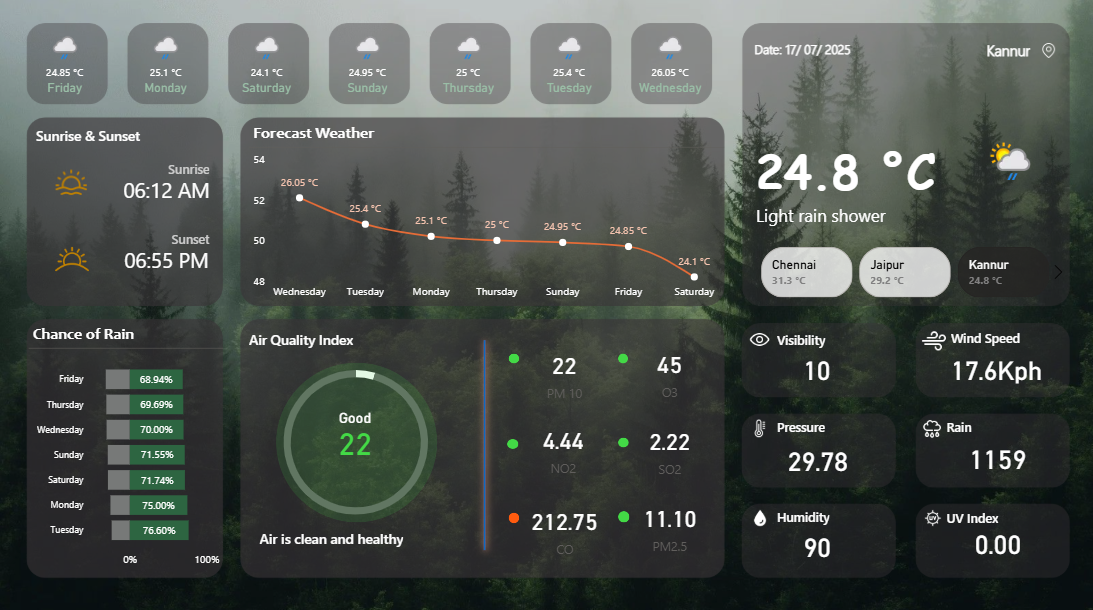

This screenshot's page, from the dashboard's own definition file:
{"tool":"powerbi","page":{"name":"Page 1","canvas":[1280,720],"ordinal":0},"visuals":[{"type":"donutChart","fields":{"Y":["Sum(Current.current.air_quality.pm10)","_Measures.Left_Value_PM10"]},"box":[304.2,408.3,224.5,221.2],"z":0},{"type":"shape","box":[322.1,426.2,188.7,187.1],"z":1000},{"type":"advancedSlicerVisual","fields":{"Values":["Location.location.name"]},"box":[865.3,286.3,388.7,69.9],"z":2000},{"type":"shape","box":[884.4,164.4,251.1,70],"z":3000},{"type":"shape","box":[884.4,236.7,353.3,34.4],"z":4000},{"type":"shape","box":[1049.1,43.9,156.1,34.2],"z":5000},{"type":"image","box":[1210.1,47.2,32.5,27.7],"z":6000},{"type":"shape","box":[883.2,43.9,135,32.5],"z":7000},{"type":"cardVisual","fields":{"Data":["Min(Current.current.condition.icon)"]},"box":[1136,144,90,94],"z":8000},{"type":"image","box":[868.9,381.1,40,36.7],"z":9000},{"type":"shape","box":[908.9,384.4,134.4,31.1],"z":10000},{"type":"image","box":[1070,486.7,40,35.6],"z":11000},{"type":"image","box":[868.9,487.8,40,31.1],"z":12000},{"type":"image","box":[1074.4,592.2,34.4,30],"z":13000},{"type":"image","box":[1072.2,380,40,40],"z":14000},{"type":"image","box":[874.4,592.2,30,30],"z":15000},{"type":"shape","box":[1112.2,383.3,125.6,30],"z":16000},{"type":"shape","box":[908.9,486.7,134.4,31.1],"z":17000},{"type":"shape","box":[1107.8,486.7,135.6,31.1],"z":18000},{"type":"shape","box":[908.9,591.1,134.4,31.1],"z":19000},{"type":"shape","box":[1107.8,592.2,134.4,30],"z":20000},{"type":"card","fields":{"Values":["Sum(Current.current.humidity)"]},"box":[927.8,620,54.4,43.3],"z":21000},{"type":"card","fields":{"Values":["Sum(Current.current.uv)"]},"box":[1122.2,616.7,87.8,42.2],"z":22000},{"type":"card","fields":{"Values":["Sum(Current.current.pressure_in)"]},"box":[908.9,518.9,94.4,42.2],"z":23000},{"type":"card","fields":{"Values":["Sum(Current.current.vis_km)"]},"box":[917.8,412.2,74.4,42.2],"z":24000},{"type":"card","fields":{"Values":["_Measures.Wind_Speed"]},"box":[1100,412.2,130,43.3],"z":25000},{"type":"card","fields":{"Values":["Sum(Forecast_day.forecast.forecastday.day.daily_chance_of_rain)"]},"box":[1118.9,515.6,94.4,43.3],"z":26000},{"type":"lineChart","title":"Forecast Weather","fields":{"Y":["Sum(Forecast_day.forecast.forecastday.day.avgtemp_c)"],"Category":["Forecast_day.Day_Name"]},"box":[291.2,144.8,556.3,214.7],"z":27000},{"type":"advancedSlicerVisual","fields":{"Values":["Forecast_day.Day_Name"]},"box":[16.3,27.7,831.2,97.6],"z":28000},{"type":"shape","box":[42.3,144.8,135,30.9],"z":29000},{"type":"shape","box":[111.8,190,132.7,68.2],"z":30000},{"type":"shape","box":[110.6,271.6,133.4,68.3],"z":31000},{"type":"shape","box":[136.4,184.5,108.2,30.9],"z":32000},{"type":"shape","box":[134.5,266.4,110,30],"z":33000},{"type":"image","box":[51.8,274.5,63.6,62.7],"z":34000},{"type":"image","box":[60,190.9,47.3,48.2],"z":35000},{"type":"hundredPercentStackedBarChart","title":"Chance of Rain","fields":{"Y":["Sum(Forecast_day.forecast.forecastday.day.daily_chance_of_rain)","Current.Left_value_Rain"],"Category":["Forecast_day.Day_Name"]},"box":[34,380,228,294],"z":36000},{"type":"shape","box":[291.2,383.9,135,29.3],"z":37000},{"type":"card","fields":{"Values":["Sum(Current.current.air_quality.pm10)"]},"box":[607.3,400,105.5,78.2],"z":38000},{"type":"shape","box":[594.5,600.9,12.7,12.7],"z":39000},{"type":"card","fields":{"Values":["Sum(Current.current.air_quality.o3)"]},"box":[729.1,398.2,106.4,78.2],"z":40000},{"type":"card","fields":{"Values":["Sum(Current.current.air_quality.so2)"]},"box":[729.1,489.1,106.4,77.3],"z":41000},{"type":"card","fields":{"Values":["Sum(Current.current.air_quality.no2)"]},"box":[605.5,488.2,106.4,78.2],"z":42000},{"type":"card","fields":{"Values":["Sum(Current.current.air_quality.co)"]},"box":[607.3,581.8,106.4,77.3],"z":43000},{"type":"card","fields":{"Values":["Sum(Current.current.air_quality.pm2_5)"]},"box":[729.1,578.2,106.4,78.2],"z":44000},{"type":"shape","box":[722.7,513.6,12.7,11.8],"z":45000},{"type":"shape","box":[594.5,415.5,12.7,11.8],"z":46000},{"type":"shape","box":[722.7,415.5,11.8,11.8],"z":47000},{"type":"shape","box":[592.7,515.5,13.6,11.8],"z":48000},{"type":"shape","box":[722.7,600,13.6,13.6],"z":49000},{"type":"shape","box":[544.9,392,42.3,263.5],"z":50000},{"type":"card","fields":{"Values":["Sum(Current.current.air_quality.pm10)"]},"box":[353,481.5,125.2,74.8],"z":51000},{"type":"shape","box":[304.3,602.9,274.3,55.7],"z":52000}]}

Visuals, with their boxes in screenshot pixels (x1, y1, x2, y2), scaled from the page's 1280x720 canvas onto the 1093x610 screenshot:
donutChart - Sum(Current.current.air_quality.pm10) x _Measures.Left_Value_PM10: x1=260, y1=346, x2=451, y2=533
shape: x1=275, y1=361, x2=436, y2=520
advancedSlicerVisual - Location.location.name: x1=739, y1=243, x2=1071, y2=302
shape: x1=755, y1=139, x2=970, y2=199
shape: x1=755, y1=201, x2=1057, y2=230
shape: x1=896, y1=37, x2=1029, y2=66
image: x1=1033, y1=40, x2=1061, y2=63
shape: x1=754, y1=37, x2=869, y2=65
cardVisual - Min(Current.current.condition.icon): x1=970, y1=122, x2=1047, y2=202
image: x1=742, y1=323, x2=776, y2=354
shape: x1=776, y1=326, x2=891, y2=352
image: x1=914, y1=412, x2=948, y2=443
image: x1=742, y1=413, x2=776, y2=440
image: x1=917, y1=502, x2=947, y2=527
image: x1=916, y1=322, x2=950, y2=356
image: x1=747, y1=502, x2=772, y2=527
shape: x1=950, y1=325, x2=1057, y2=350
shape: x1=776, y1=412, x2=891, y2=439
shape: x1=946, y1=412, x2=1062, y2=439
shape: x1=776, y1=501, x2=891, y2=527
shape: x1=946, y1=502, x2=1061, y2=527
card - Sum(Current.current.humidity): x1=792, y1=525, x2=839, y2=562
card - Sum(Current.current.uv): x1=958, y1=522, x2=1033, y2=558
card - Sum(Current.current.pressure_in): x1=776, y1=440, x2=857, y2=475
card - Sum(Current.current.vis_km): x1=784, y1=349, x2=847, y2=385
card - _Measures.Wind_Speed: x1=939, y1=349, x2=1050, y2=386
card - Sum(Forecast_day.forecast.forecastday.day.daily_chance_of_rain): x1=955, y1=437, x2=1036, y2=474
"Forecast Weather" lineChart: x1=249, y1=123, x2=724, y2=305
advancedSlicerVisual - Forecast_day.Day_Name: x1=14, y1=23, x2=724, y2=106
shape: x1=36, y1=123, x2=151, y2=149
shape: x1=95, y1=161, x2=209, y2=219
shape: x1=94, y1=230, x2=208, y2=288
shape: x1=116, y1=156, x2=209, y2=182
shape: x1=115, y1=226, x2=209, y2=251
image: x1=44, y1=233, x2=99, y2=286
image: x1=51, y1=162, x2=92, y2=203
"Chance of Rain" hundredPercentStackedBarChart: x1=29, y1=322, x2=224, y2=571
shape: x1=249, y1=325, x2=364, y2=350
card - Sum(Current.current.air_quality.pm10): x1=519, y1=339, x2=609, y2=405
shape: x1=508, y1=509, x2=518, y2=520
card - Sum(Current.current.air_quality.o3): x1=623, y1=337, x2=713, y2=404
card - Sum(Current.current.air_quality.so2): x1=623, y1=414, x2=713, y2=480
card - Sum(Current.current.air_quality.no2): x1=517, y1=414, x2=608, y2=480
card - Sum(Current.current.air_quality.co): x1=519, y1=493, x2=609, y2=558
card - Sum(Current.current.air_quality.pm2_5): x1=623, y1=490, x2=713, y2=556
shape: x1=617, y1=435, x2=628, y2=445
shape: x1=508, y1=352, x2=518, y2=362
shape: x1=617, y1=352, x2=627, y2=362
shape: x1=506, y1=437, x2=518, y2=447
shape: x1=617, y1=508, x2=629, y2=520
shape: x1=465, y1=332, x2=501, y2=555
card - Sum(Current.current.air_quality.pm10): x1=301, y1=408, x2=408, y2=471
shape: x1=260, y1=511, x2=494, y2=558
